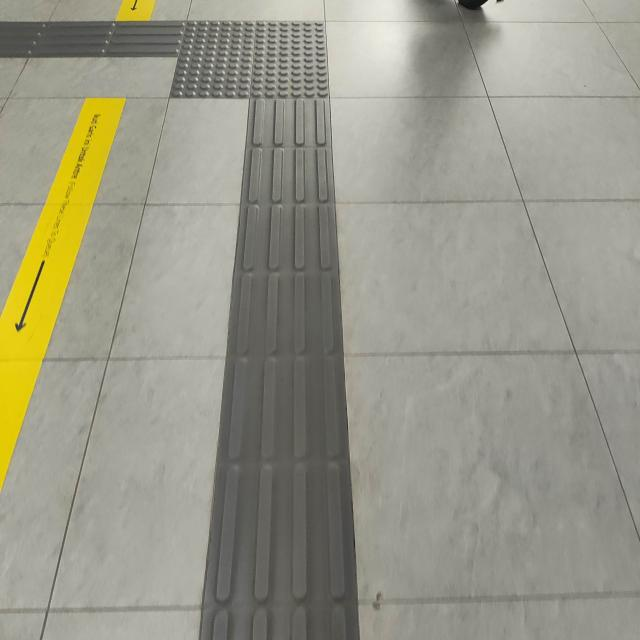kiri: (59, 0, 363, 146)
